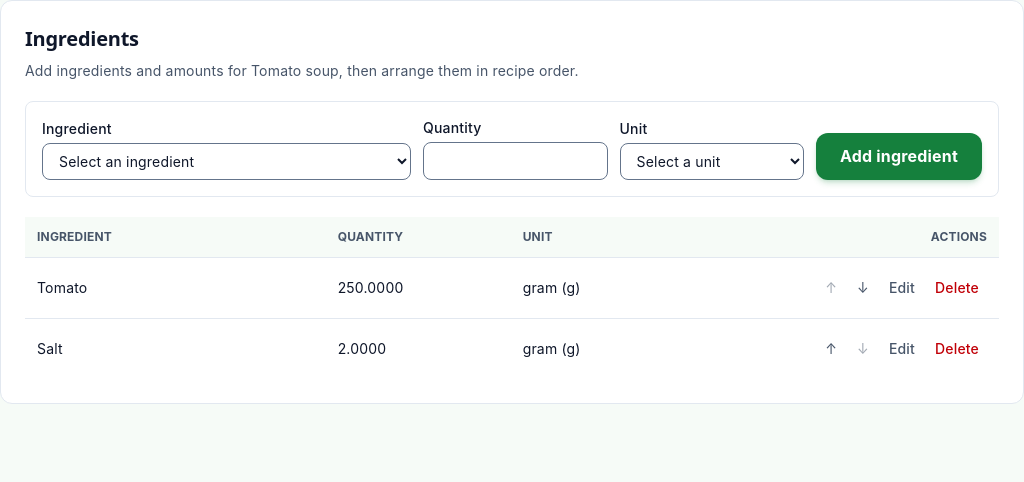
Test: recipe details and ingredient lines › adds a line with its selected ingredient, quantity, unit, and order
Check: the row "Tomato 250.0000 gram (g) ↑ ↓ Edit Delete" is shown, box [25,258,999,318]
Select "Salt" in the dropdown labelled "Ingredient": x=226, y=162 [42,143,411,180]
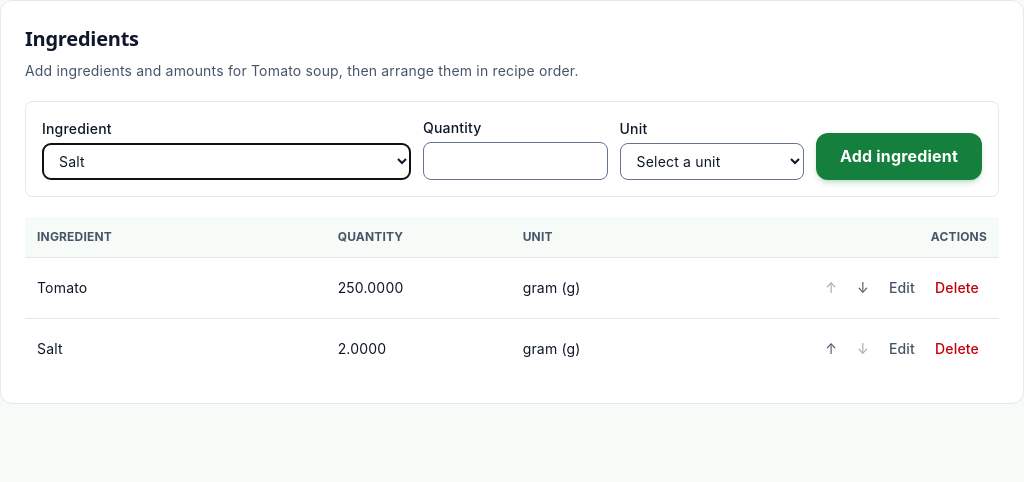
In the number field labelled "Quantity": x=515, y=161 [423,142,608,180], type "1.5"
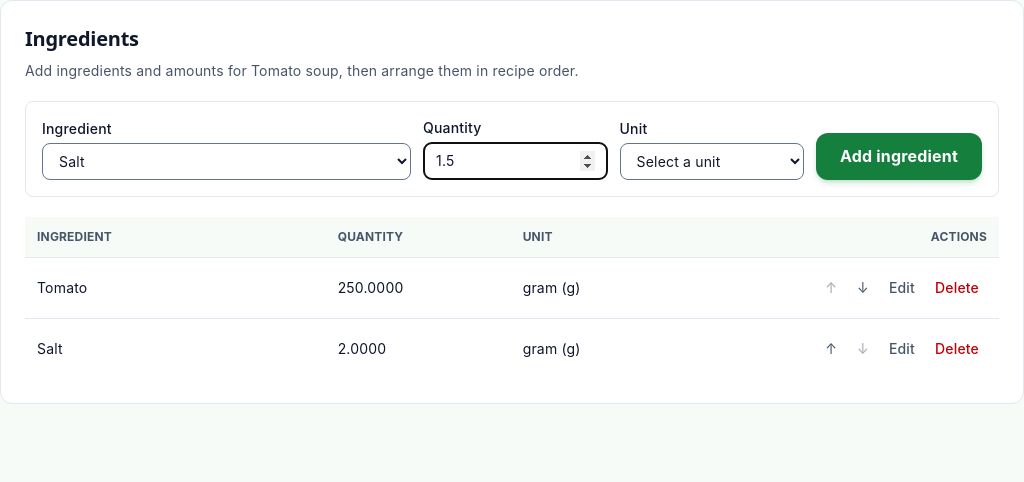
Select "gram (g)" in the dropdown labelled "Unit": x=712, y=162 [620,143,804,180]
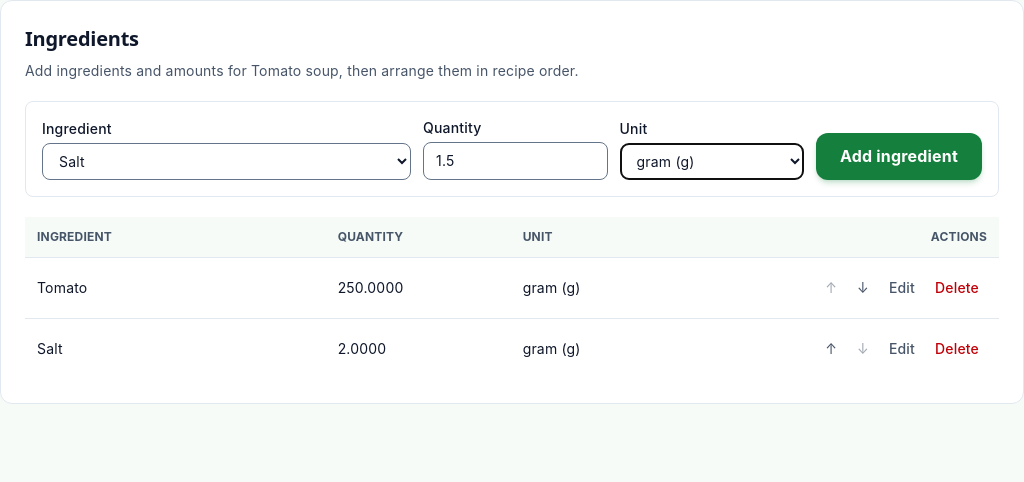
Click the button "Add ingredient": x=899, y=156 [816,133,982,180]
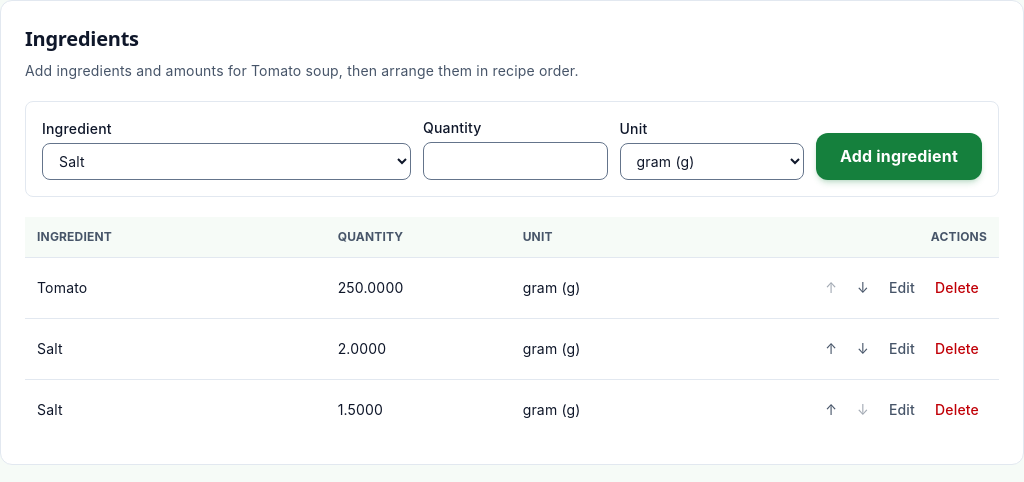
Check: the number of rows is 4, box [25,217,999,258]; [25,258,999,318]; [25,318,999,380]; [25,380,999,440]
Check: the text "1.5000" is shown, box [326,380,511,440]
